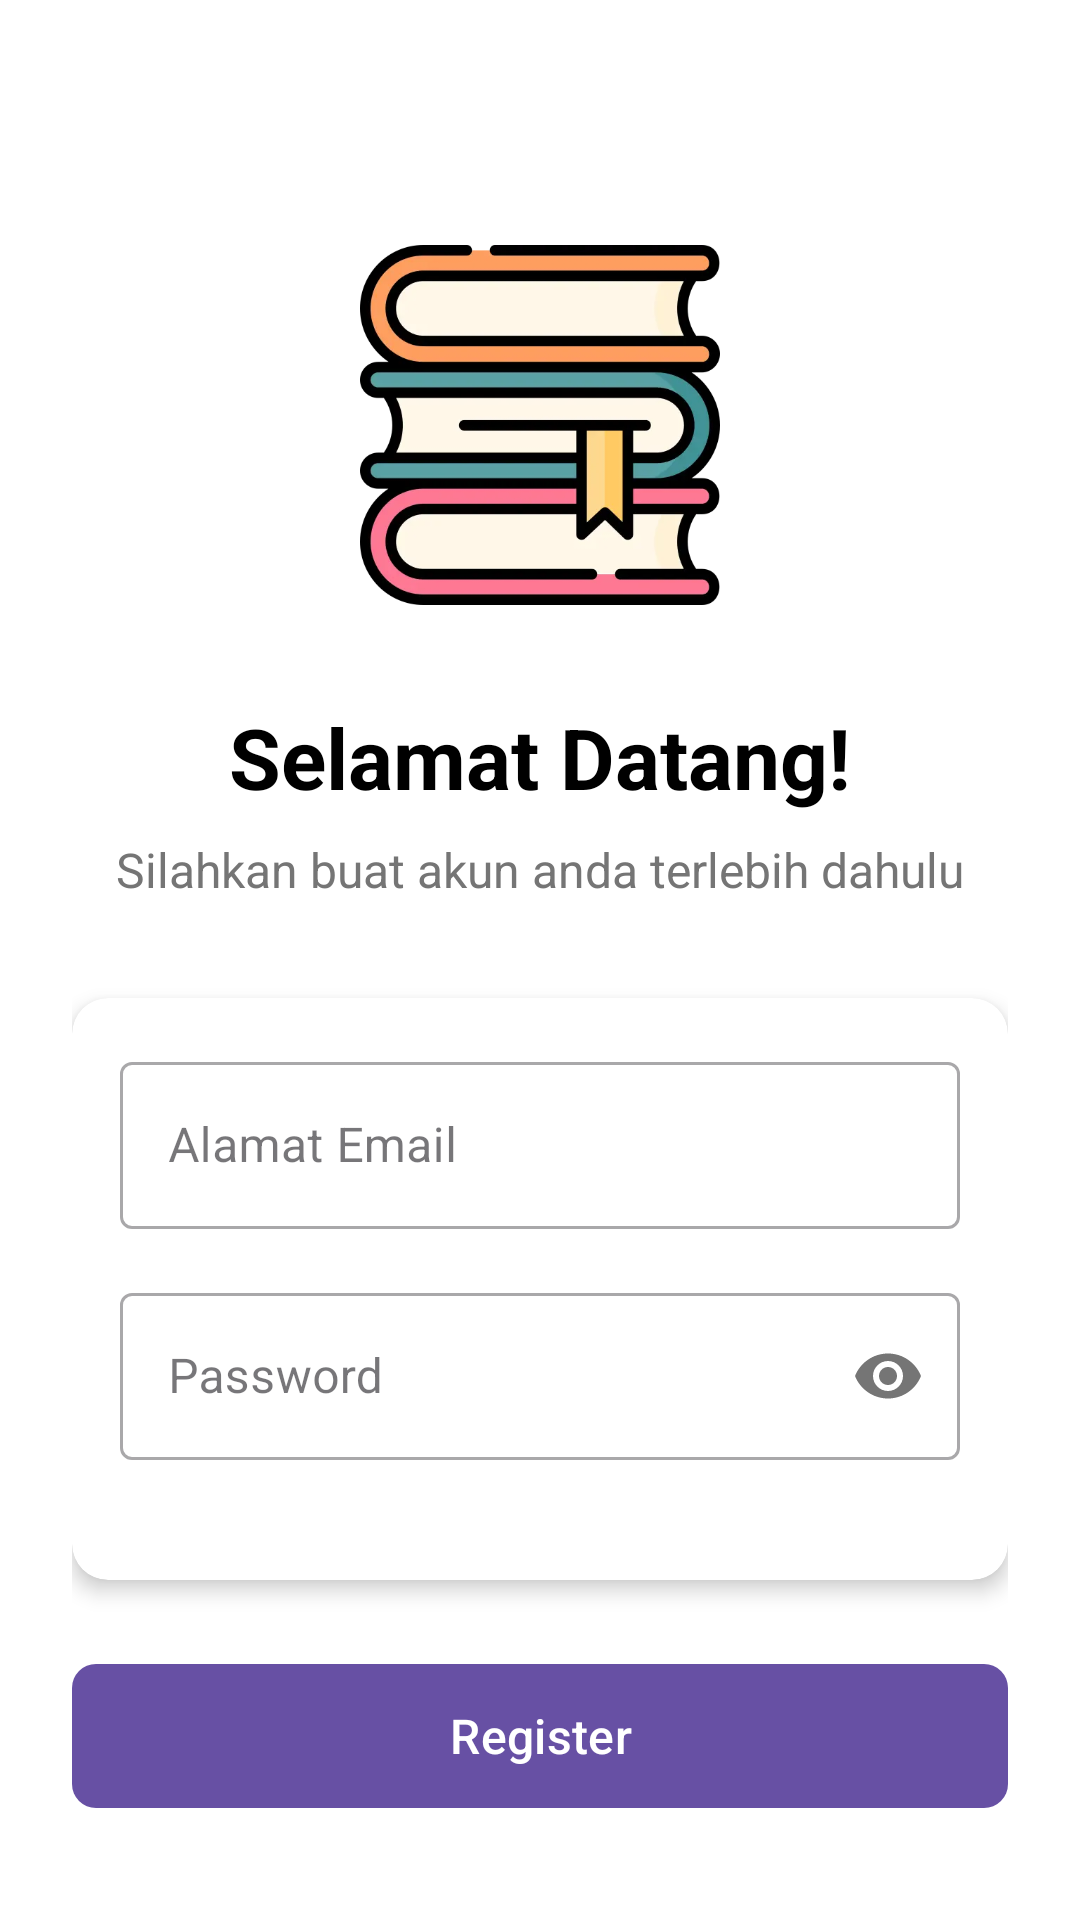

Where to tap for icons on this 1080×1920 app screen, as (x=x, y=y):
books: (x=540, y=425)
